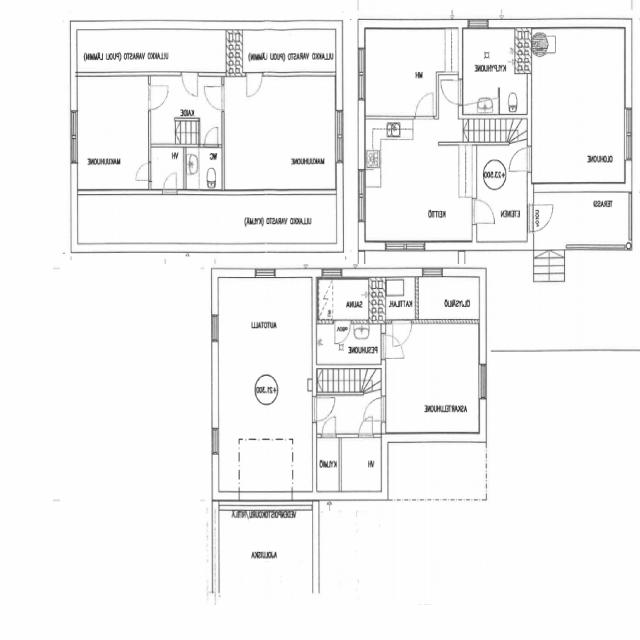door: (527, 206, 555, 232), (392, 320, 412, 350), (509, 147, 531, 172), (382, 335, 404, 359), (203, 85, 224, 110), (148, 85, 169, 110), (312, 398, 334, 421), (364, 398, 386, 421), (472, 200, 494, 223), (415, 92, 433, 120), (441, 81, 462, 104), (181, 73, 198, 98), (246, 72, 262, 98), (335, 320, 351, 344), (358, 414, 373, 438), (162, 171, 177, 195), (322, 415, 336, 438), (204, 126, 218, 148), (134, 162, 150, 181)
